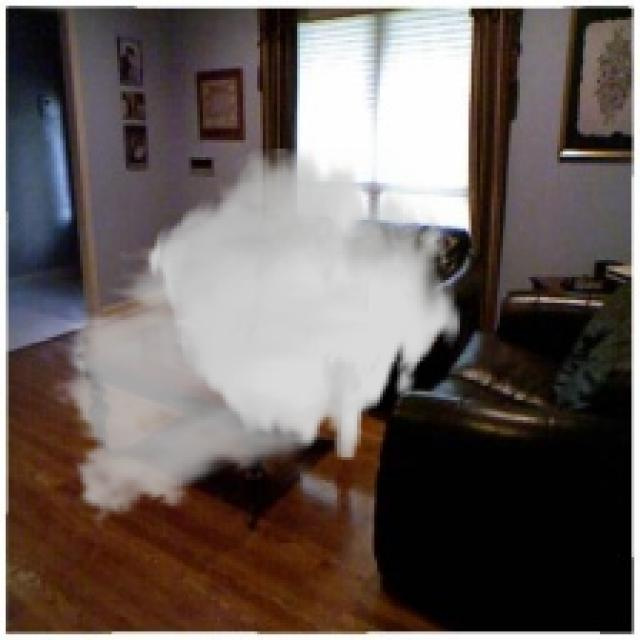smoke: (51, 148, 463, 532)
